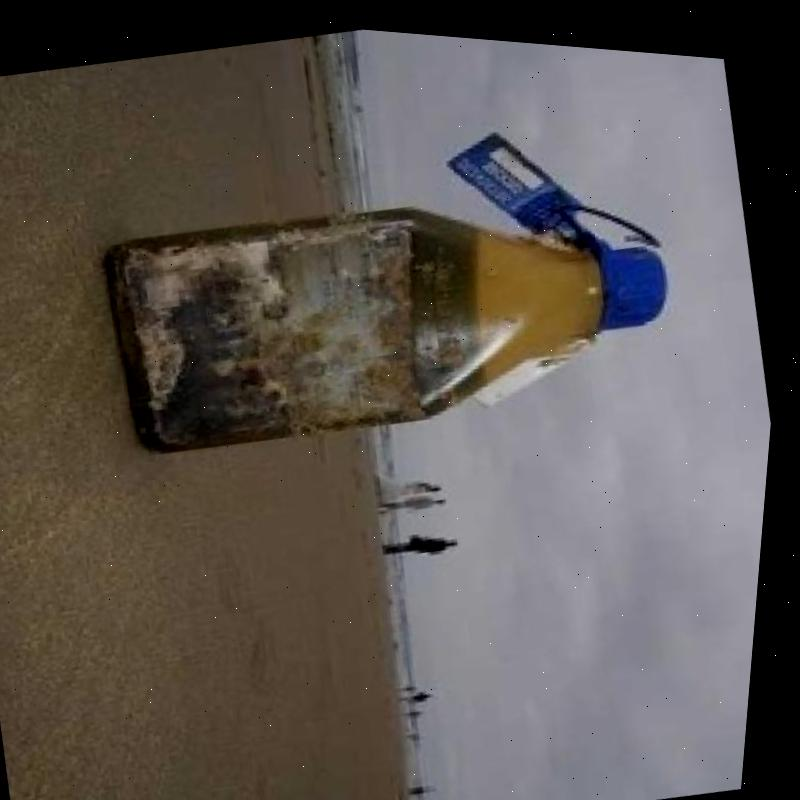botella: (87, 131, 703, 497)
